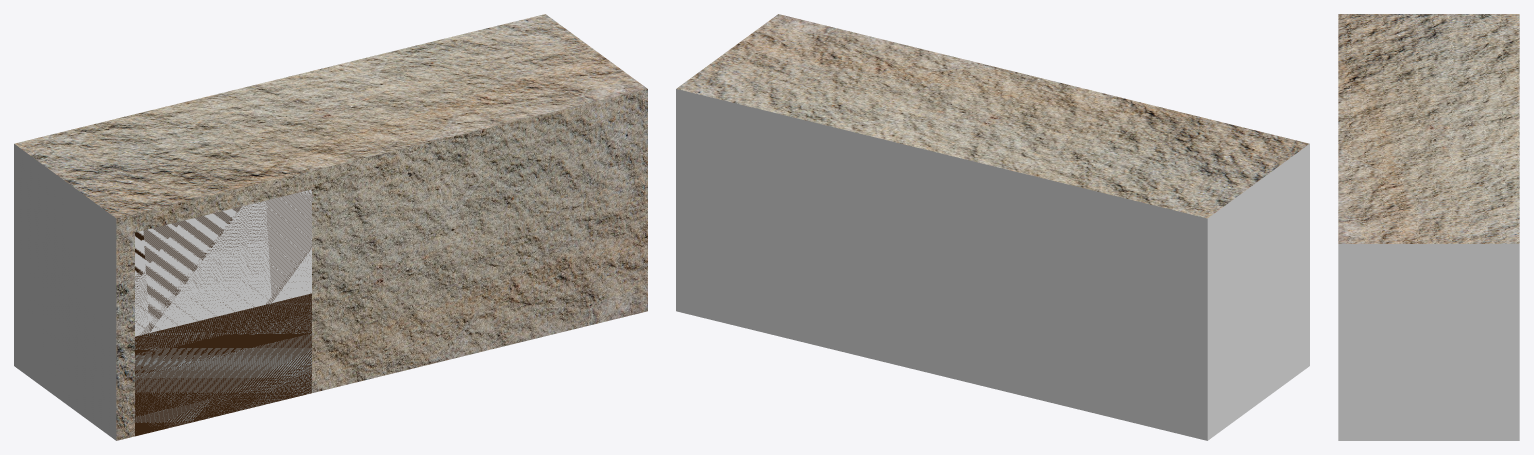
Rendered from Tunnel-catacombs.dae.
The picture shows the model from 3 angles, left to right: view 1: azimuth 30°, elevation 25°; view 2: azimuth 150°, elevation 25°; view 3: azimuth 270°, elevation 25°; orthographic projection. The views are drawn at different scales.
Visible parts, largest first — view 1: SketchUp (×2); view 2: SketchUp (×2); view 3: SketchUp (×2).
Boxes of the visible parts, x1,y1,x2,y2 form: SketchUp (×2): (14,14,647,440); SketchUp (×2): (676,14,1309,440); SketchUp (×2): (1338,14,1519,440).
Size of the model in its own units: 118 by 39.37 by 47.24.
4 materials, 1 textured.
